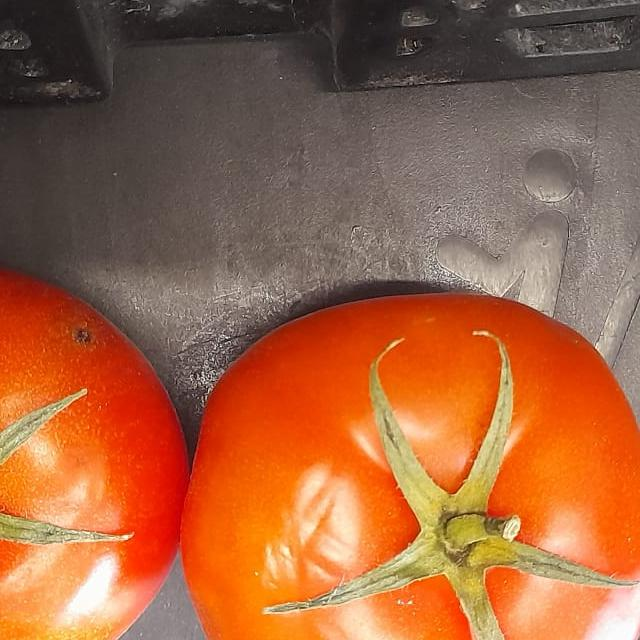tomato: (192, 257, 640, 640), (0, 270, 192, 640)
